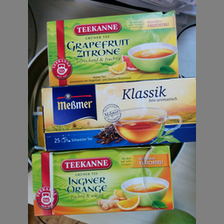tea: (41, 77, 196, 151), (45, 9, 180, 87), (32, 146, 175, 218)
